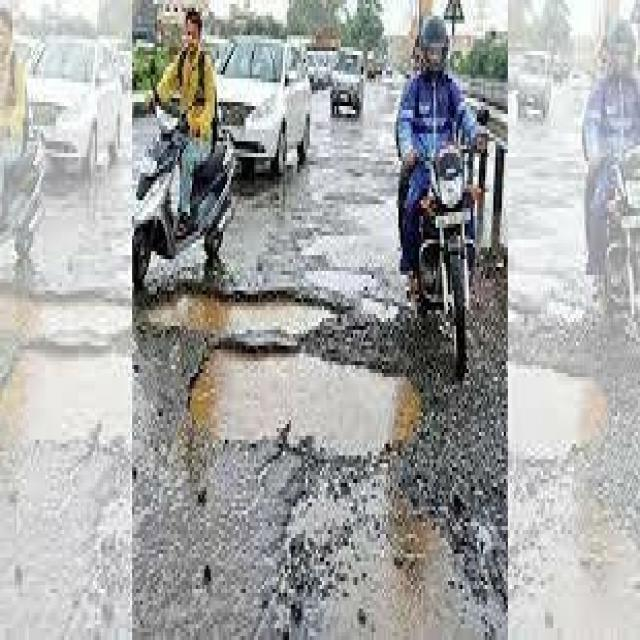pothole: (118, 271, 420, 534)
